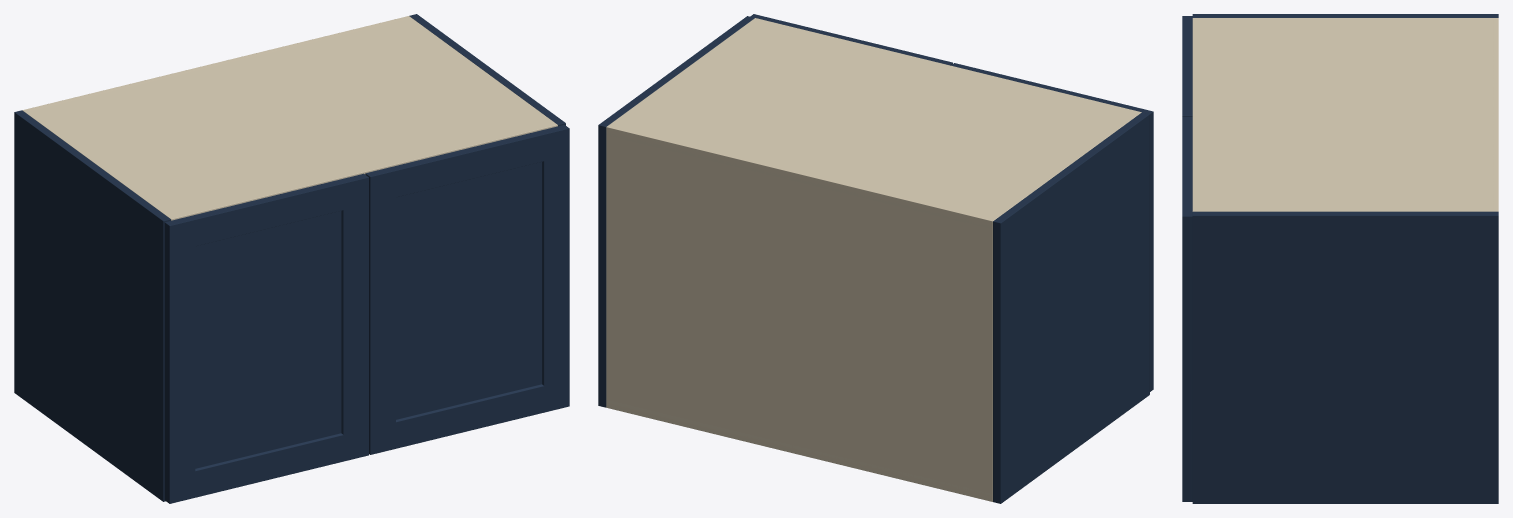
The model's file is oppein-ply-bss-w362424.glb.
3 views of the same model, side by side, from view 1: azimuth 30°, elevation 25°; view 2: azimuth 150°, elevation 25°; view 3: azimuth 270°, elevation 25° (orthographic). The views are drawn at different scales.
Parts seen in each view (by area): view 1: Door, Door.001, Cabinet top, Cabinet side, Cabinet side.001, Cabinet back; view 2: Cabinet back, Cabinet top, Cabinet side, Cabinet side.001, Cabinet bottom, Door, Door.001; view 3: Cabinet side.001, Cabinet top, Door.001, Cabinet side, Cabinet back, Door.
Boxes of the visible parts, x1,y1,x2,y2 form: Door: (164,173,368,503); Door.001: (365,125,569,454); Cabinet top: (22,18,557,220); Cabinet side: (14,110,170,501); Cabinet side.001: (409,14,565,126); Cabinet back: (23,16,411,111); Cabinet back: (606,125,995,501); Cabinet top: (606,18,1141,228); Cabinet side: (993,112,1149,503); Cabinet side.001: (598,16,754,407); Cabinet bottom: (606,400,992,501); Door: (951,63,1153,391); Door.001: (750,14,952,65); Cabinet side.001: (1192,211,1498,503); Cabinet top: (1192,18,1498,211); Door.001: (1182,116,1192,501); Cabinet side: (1192,14,1498,17); Cabinet back: (1493,18,1498,211); Door: (1182,16,1192,116).
Size of the model in its own units: 0.9144 by 0.6096 by 0.6064.
